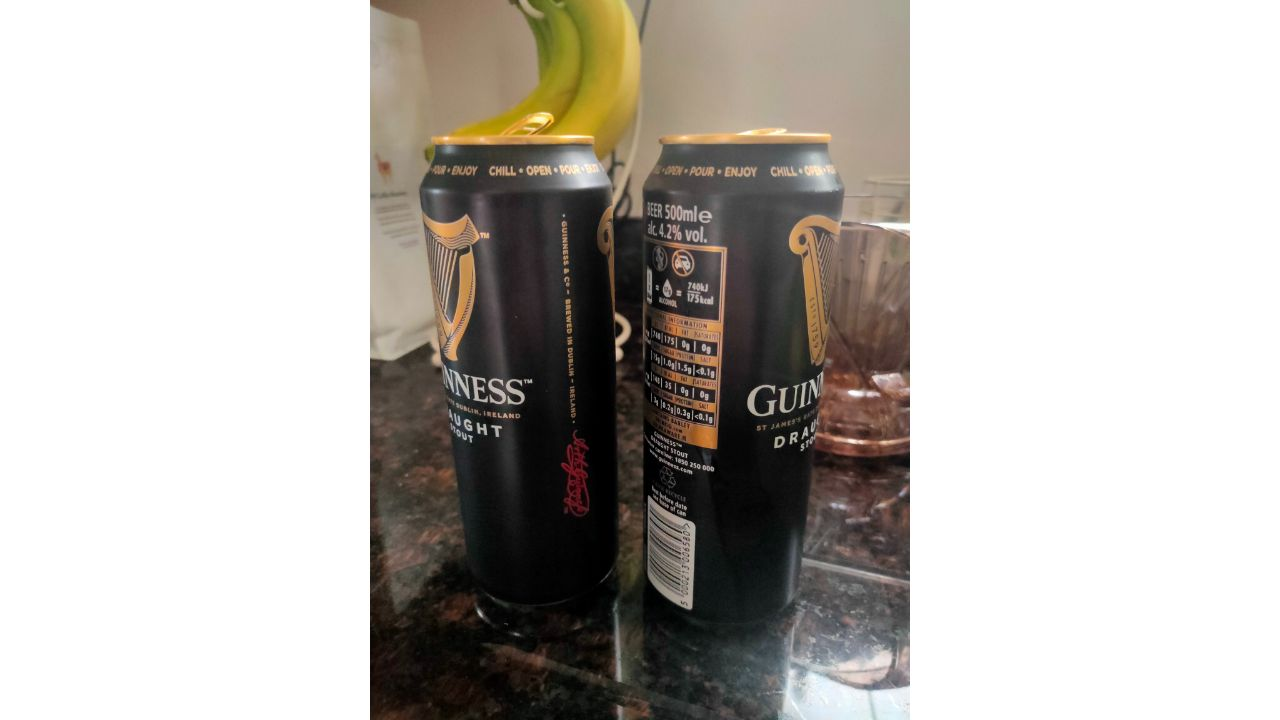Can: (417, 118, 625, 627), (642, 127, 845, 632)
